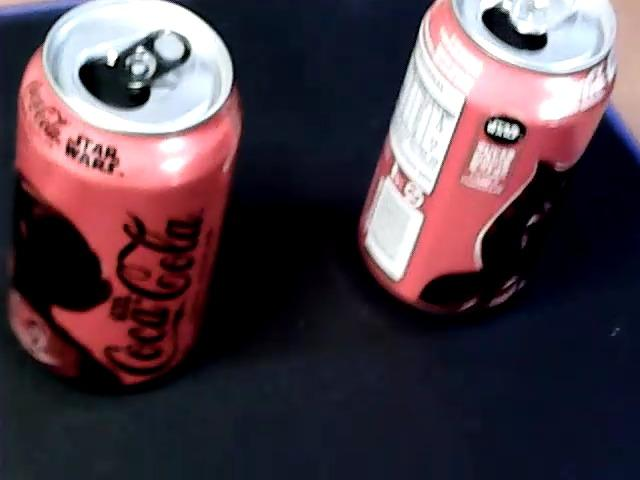coke: (6, 0, 236, 387), (361, 0, 621, 318)
